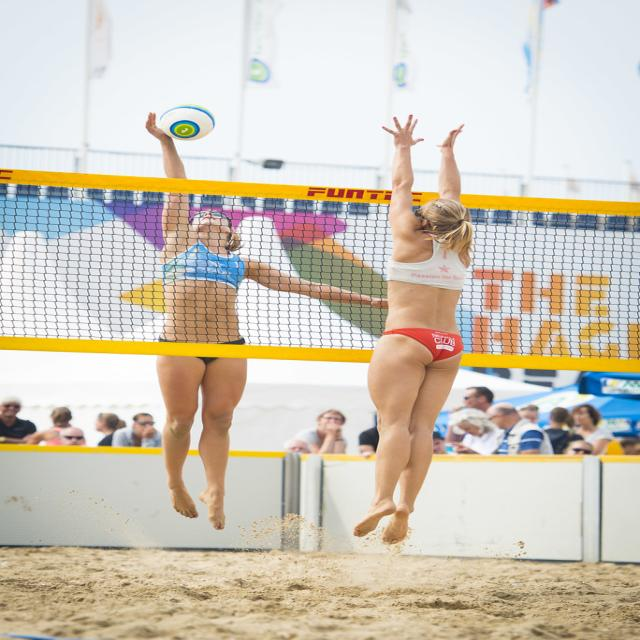Person: (286, 384, 640, 454), (0, 396, 167, 449)
